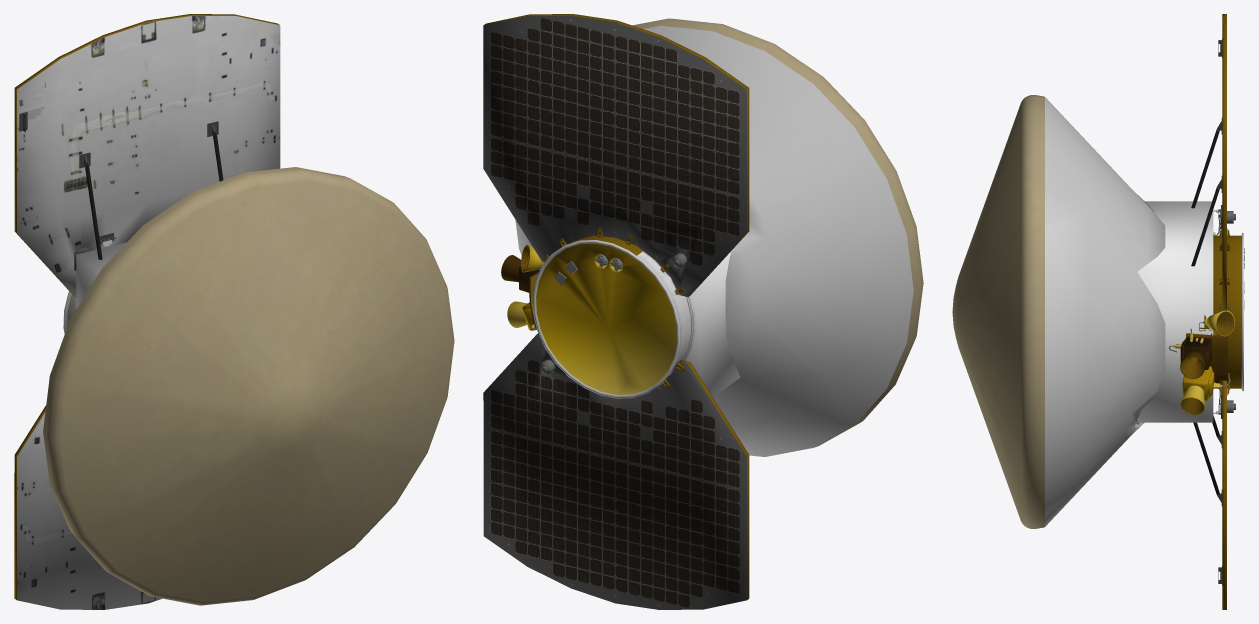
3 renders of one model, left to right at view 1: azimuth 30°, elevation 25°; view 2: azimuth 150°, elevation 25°; view 3: azimuth 270°, elevation 25°, orthographic. The views are drawn at different scales.
Visible parts, largest first — view 1: capsule, array2, array1, _root; view 2: capsule, array2, array1, _root, instruments.003; view 3: capsule, _root, instruments.003, array2, array1.
Part boxes in pixels (x1,y1,x2,y2): capsule: (43, 167, 454, 605); array2: (14, 14, 280, 296); array1: (14, 405, 161, 609); _root: (76, 242, 126, 308); capsule: (515, 18, 923, 456); array2: (483, 14, 749, 296); array1: (483, 333, 749, 609); _root: (572, 241, 740, 397); instruments.003: (501, 244, 544, 329); capsule: (952, 95, 1244, 528); _root: (1136, 201, 1213, 422); instruments.003: (1173, 310, 1235, 414); array2: (1191, 14, 1235, 311); array1: (1193, 373, 1235, 609).
Bounding box in the file's own units: 2.62 × 3.59 × 1.76.
Materials: 10 (6 with a texture image).
